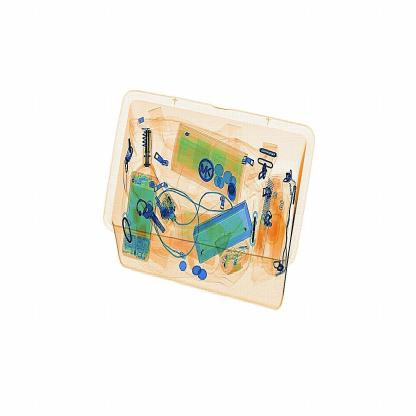scissors: (140, 127, 160, 169)
